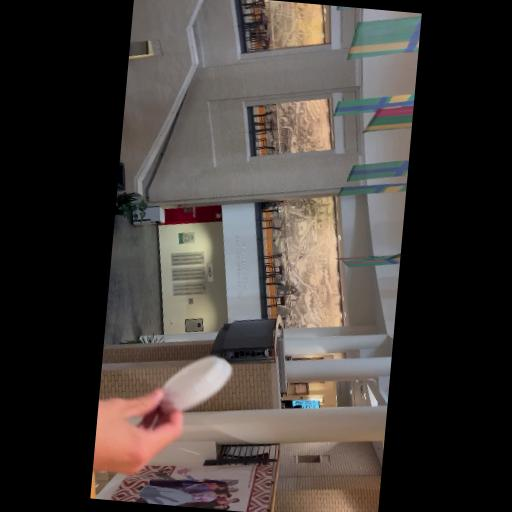lp_cup_lids: (153, 350, 234, 418)
